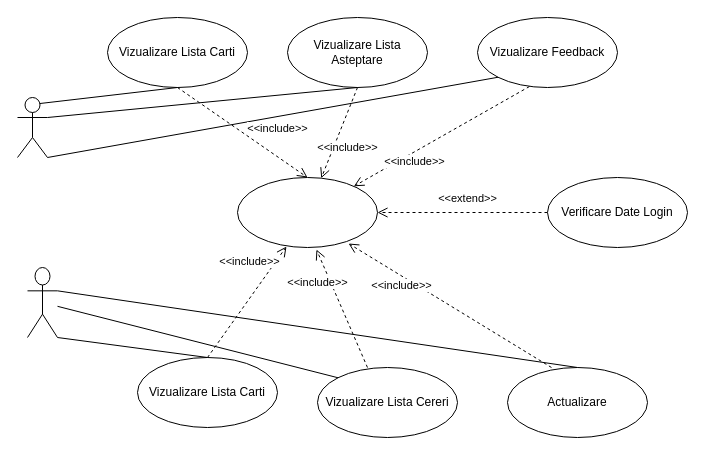
Some shapes in this 705 by 455 pixel diagram are drawn without their labels. The shapes that lost their labels are listed below. From the top down, each one's centre as x and y in pixels, then its label:
At point 32,127: "Client".
At point 307,212: "Login".
At point 42,302: "Admin".
